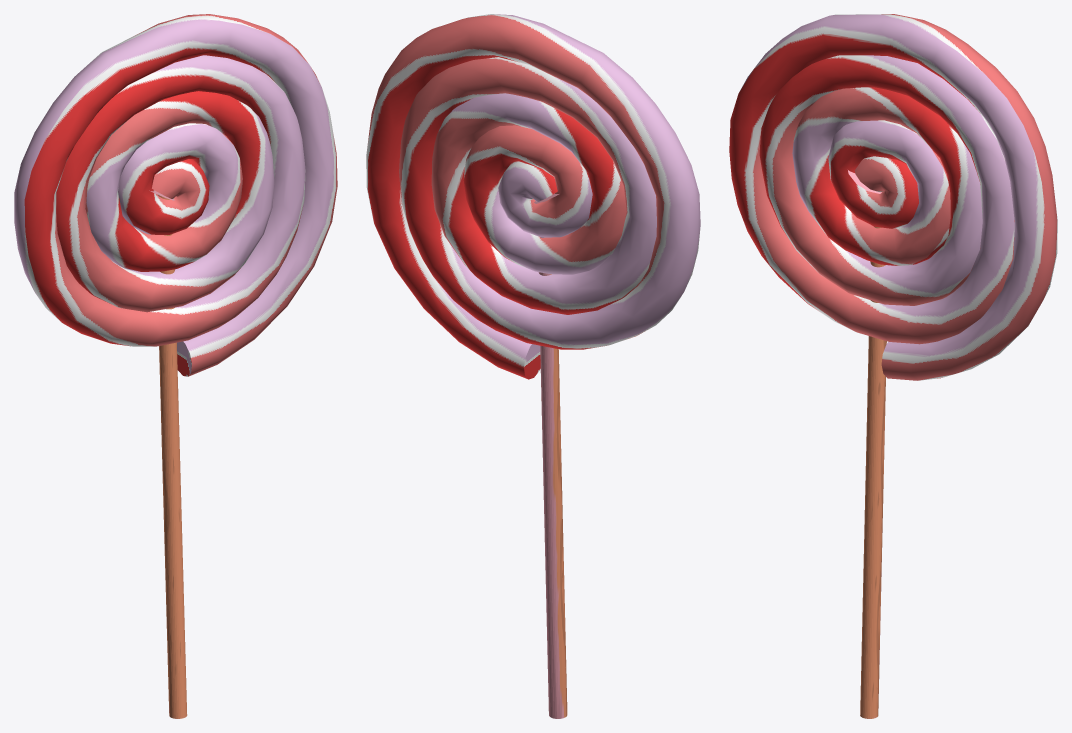
File: lollipop 1.fbx
The picture shows the model from 3 angles, left to right: view 1: azimuth 30°, elevation 25°; view 2: azimuth 150°, elevation 25°; view 3: azimuth 330°, elevation 25°; orthographic projection. The views are drawn at different scales.
Visible parts, largest first — view 1: Object001; view 2: Object001; view 3: Object001.
Part boxes in pixels (left/top/right/bottom): Object001: left=14, top=14, right=337, bottom=718; Object001: left=366, top=14, right=700, bottom=718; Object001: left=729, top=14, right=1057, bottom=718.
Bounding box in the file's own units: 2148 × 4392 × 368.
